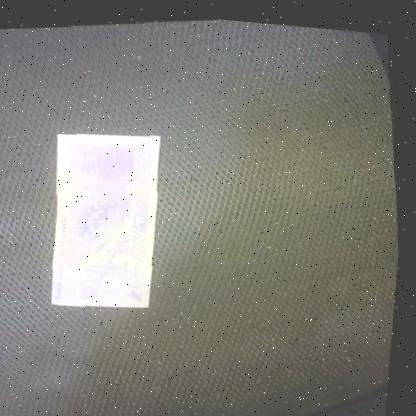two_hundred-back-vef: (34, 118, 184, 317)
